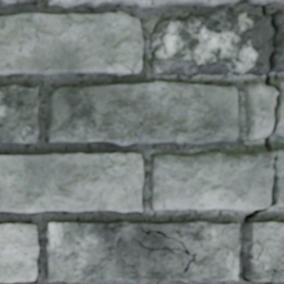brick: (48, 81, 238, 144), (46, 221, 239, 281), (0, 12, 142, 74), (0, 153, 143, 211), (245, 222, 283, 280), (0, 85, 38, 143), (0, 223, 38, 281), (48, 0, 238, 6), (0, 0, 37, 6), (246, 0, 283, 4)
broken_brick: (148, 11, 273, 76), (149, 150, 272, 211), (243, 83, 276, 140), (269, 9, 283, 72), (271, 147, 283, 208), (272, 93, 283, 139)
crack: (240, 2, 283, 281), (265, 280, 272, 283)
